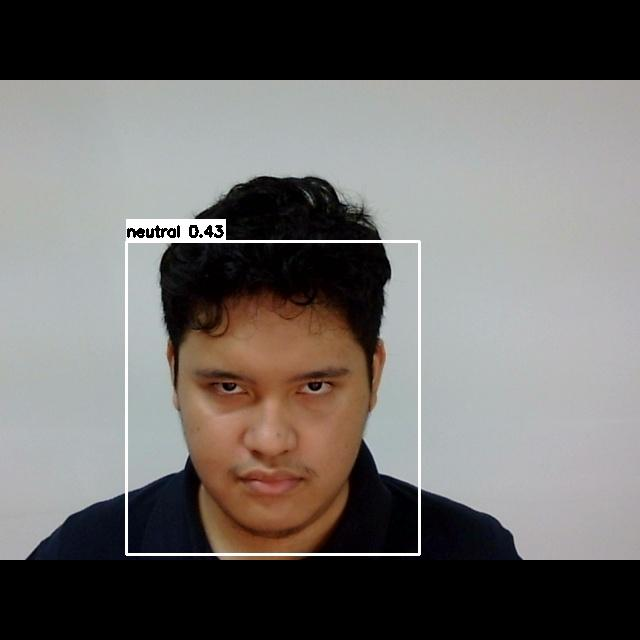Angry: (185, 347, 369, 518)
